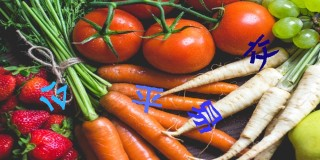交: (245, 32, 281, 69)
公: (39, 79, 68, 111)
平: (132, 82, 164, 112)
易: (187, 99, 222, 134)
